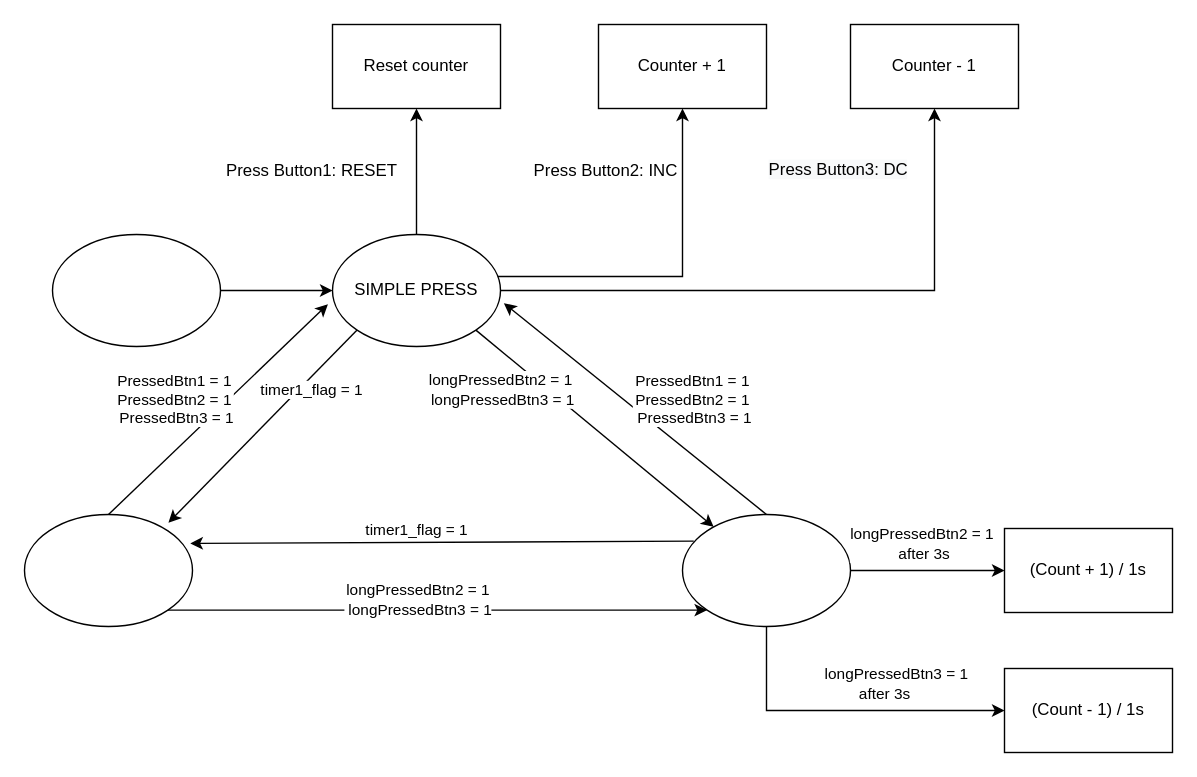
Image size: 1197x777. Some labels were removed from this diagram. Here are the shapes that lost their labels. From the top down, the box of each, then its label:
(51, 233, 220, 346): INIT
(23, 513, 192, 626): COUNT DOWN
(681, 513, 850, 626): LONG PRESS
